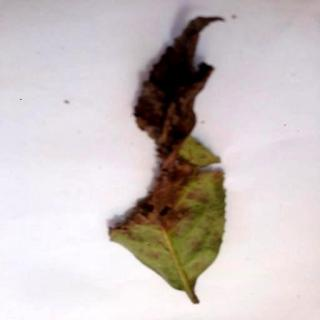Algal Leaf: (107, 17, 229, 307)
